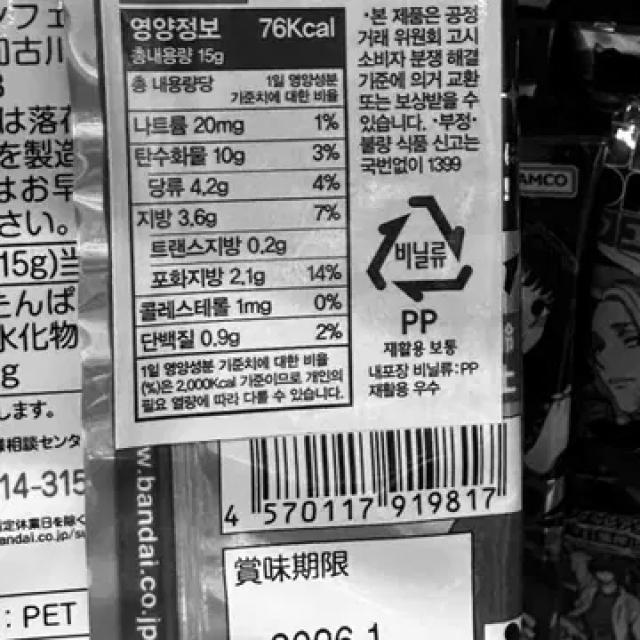Nutrition Label: (109, 1, 365, 424)
